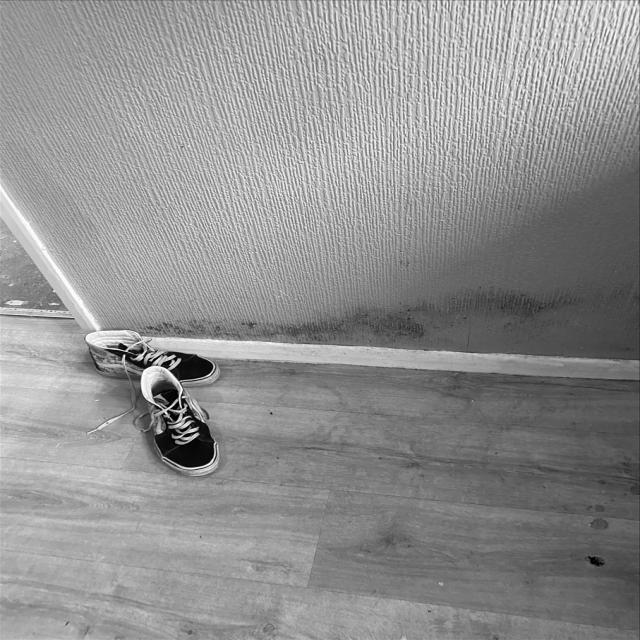stain marks: (121, 264, 640, 355)
